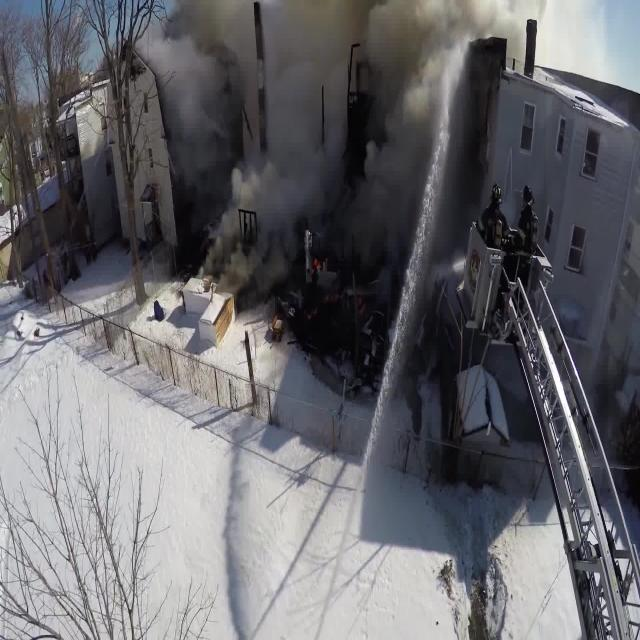Smoke: (152, 0, 546, 264)
